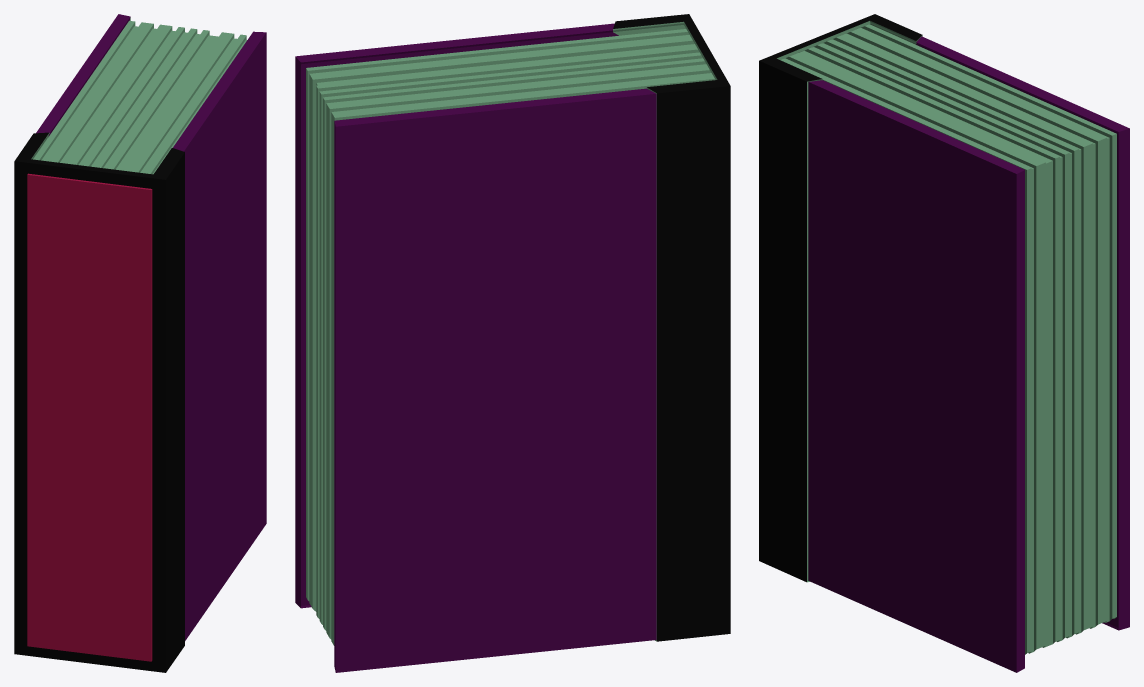
Rendered from ThirdShelfBook.fbx.
3 views of the same model, side by side, from view 1: azimuth 30°, elevation 25°; view 2: azimuth 150°, elevation 25°; view 3: azimuth 270°, elevation 25° (orthographic). The views are drawn at different scales.
Visible parts, largest first — view 1: BigBook.003; view 2: BigBook.003; view 3: BigBook.003.
Part boxes in pixels (x1=…): BigBook.003: x1=14, y1=14, x2=266, y2=672; BigBook.003: x1=295, y1=14, x2=730, y2=672; BigBook.003: x1=759, y1=14, x2=1129, y2=672.
Bounding box in the file's own units: 129 × 189 × 127.
